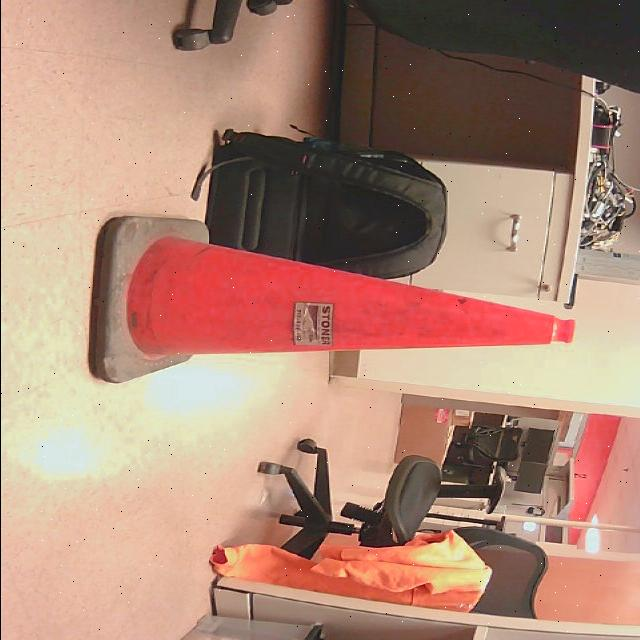traffic cone: (85, 217, 576, 385)
